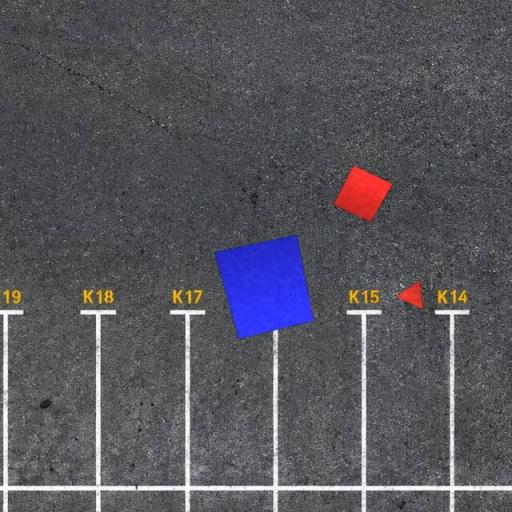BLUE_SQUARE: (214, 234, 314, 340)
RED_SQUARE: (332, 165, 394, 222)
